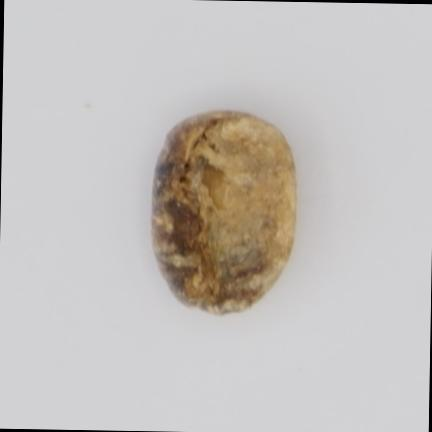partial-black: (152, 111, 295, 313)
